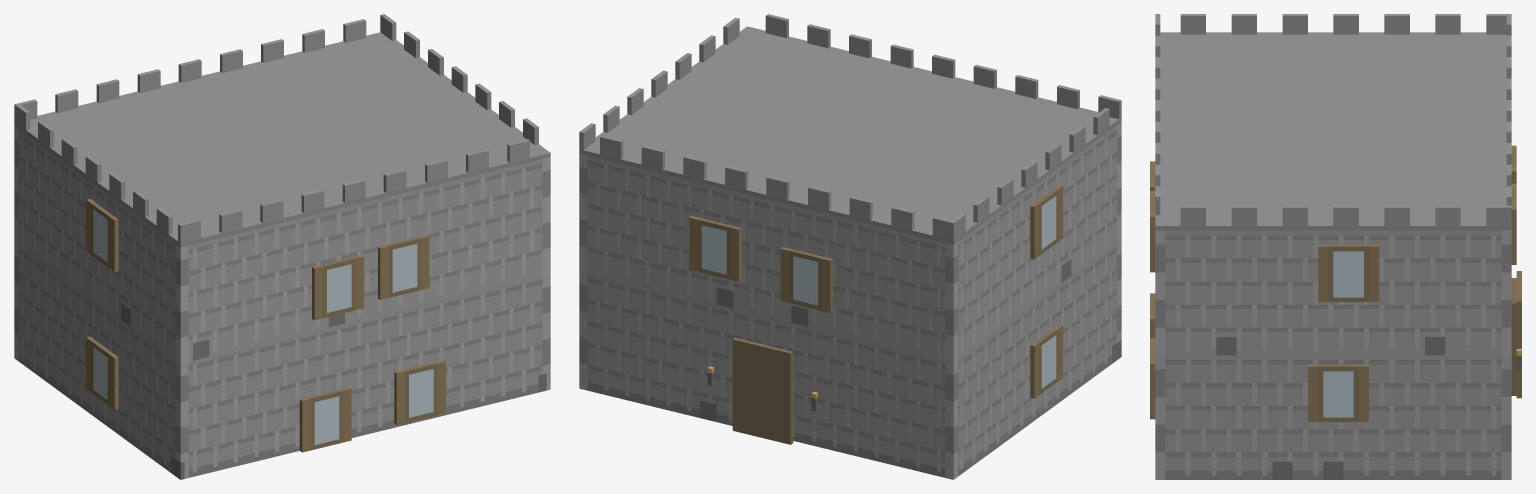
File: cuartel_guardia_comunal_02.glb
3 views of the same model, side by side, from view 1: azimuth 30°, elevation 25°; view 2: azimuth 150°, elevation 25°; view 3: azimuth 270°, elevation 25° (orthographic). The views are drawn at different scales.
Parts seen in each view (by area): view 1: cuartel_guardia_comunal_02; view 2: cuartel_guardia_comunal_02; view 3: cuartel_guardia_comunal_02.
Part boxes in pixels (x1=…): cuartel_guardia_comunal_02: x1=14, y1=14, x2=550, y2=479; cuartel_guardia_comunal_02: x1=579, y1=14, x2=1121, y2=479; cuartel_guardia_comunal_02: x1=1150, y1=14, x2=1521, y2=479.
Size of the model in its own units: 9.2 by 5.9 by 7.3.
